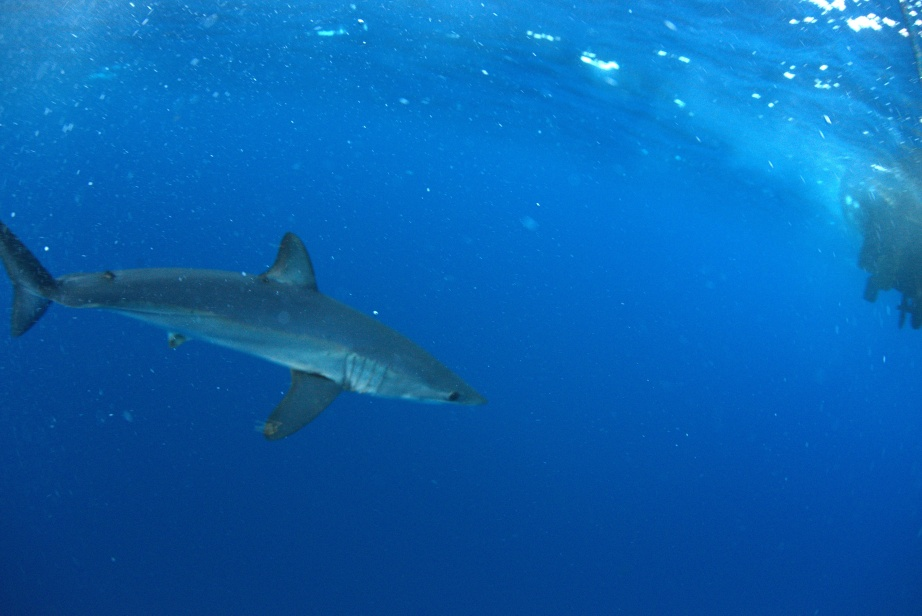Mako: (1, 186, 505, 459)
